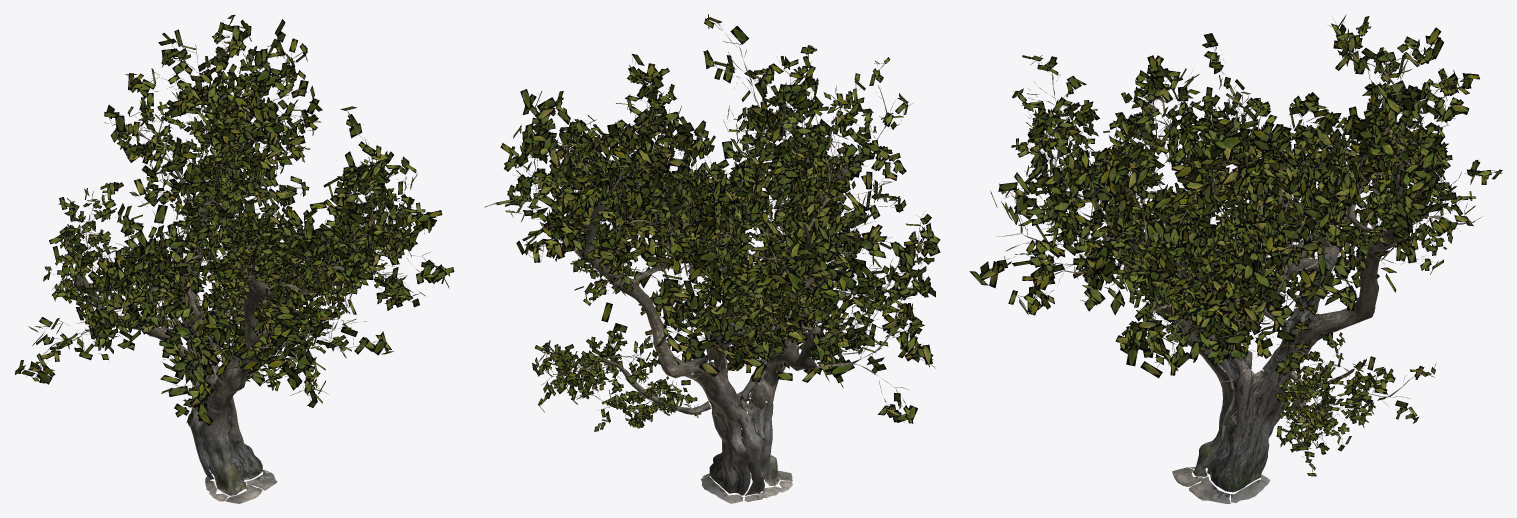
File: tree_a.glb
3 views of the same model, side by side, from view 1: azimuth 30°, elevation 25°; view 2: azimuth 150°, elevation 25°; view 3: azimuth 270°, elevation 25° (orthographic). The views are drawn at different scales.
Visible parts, largest first — view 1: island_tree_01; view 2: island_tree_01; view 3: island_tree_01.
Part boxes in pixels (box(x1,y1,x2,y2)): island_tree_01: box(15, 15, 454, 503); island_tree_01: box(484, 14, 940, 503); island_tree_01: box(969, 14, 1502, 503).
Size of the model in its own units: 4.79 by 5.01 by 4.87.
3 materials, 3 textured.
